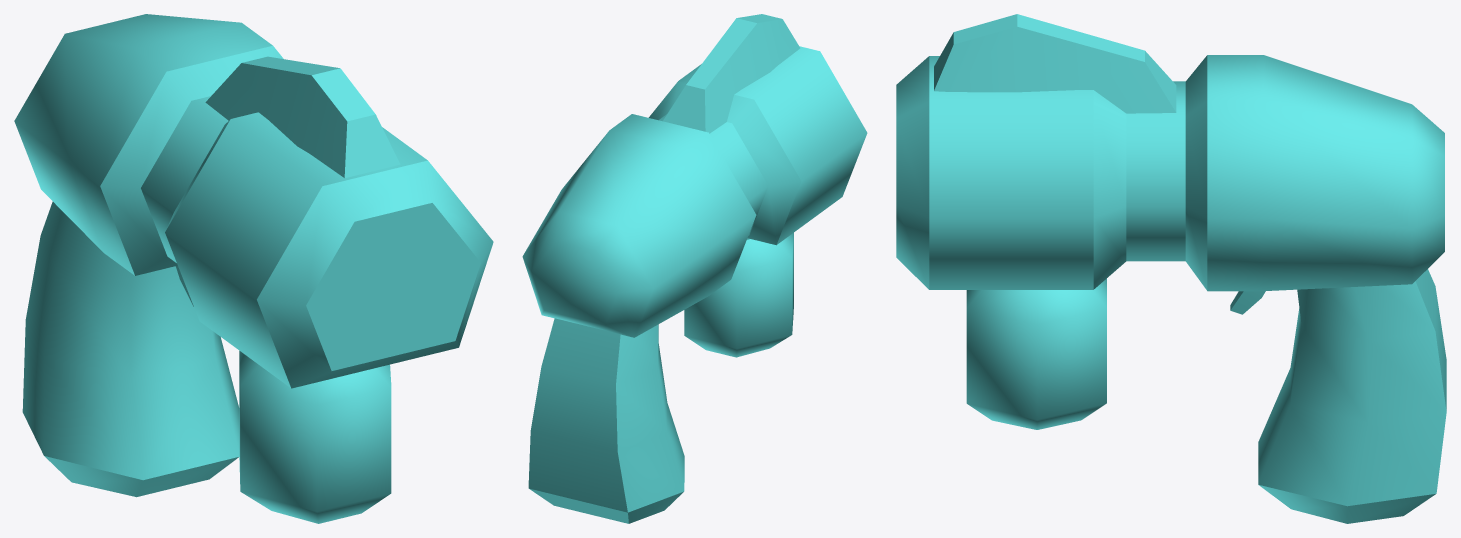
Rendered from Mesh_BubbleGum.fbx.
3 renders of one model, left to right at view 1: azimuth 30°, elevation 25°; view 2: azimuth 150°, elevation 25°; view 3: azimuth 270°, elevation 25°, orthographic. The views are drawn at different scales.
Visible parts, largest first — view 1: Mesh_BubbleGun; view 2: Mesh_BubbleGun; view 3: Mesh_BubbleGun.
Boxes of the visible parts, box(x1,y1,x2,y2) form: Mesh_BubbleGun: box(14, 14, 493, 523); Mesh_BubbleGun: box(522, 14, 867, 523); Mesh_BubbleGun: box(896, 14, 1446, 523).
Size of the model in its own units: 13.55 by 28.59 by 30.14.
